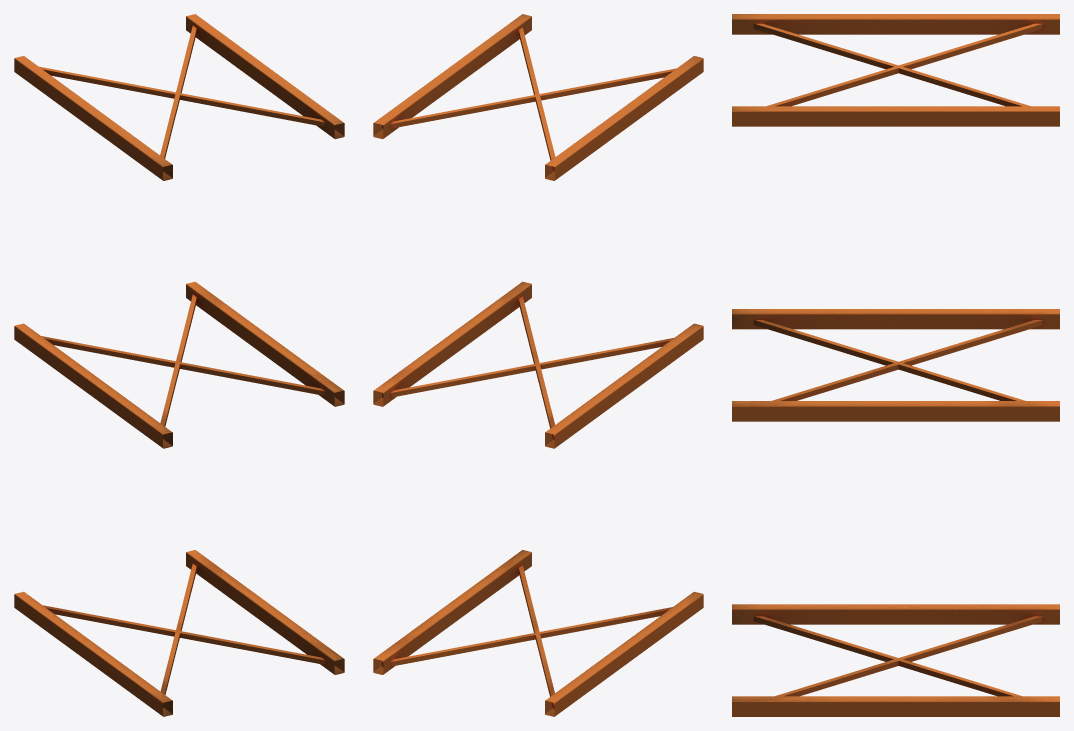
The model's file is shelves.serva.3340.obj.
The picture shows the model from 3 angles, left to right: view 1: azimuth 30°, elevation 25°; view 2: azimuth 150°, elevation 25°; view 3: azimuth 270°, elevation 25°; orthographic projection. The views are drawn at different scales.
Parts seen in each view (by area): view 1: ____01; view 2: ____01; view 3: ____01.
Part boxes in pixels (x1=…): ____01: x1=14, y1=14, x2=344, y2=716; ____01: x1=373, y1=14, x2=703, y2=716; ____01: x1=732, y1=14, x2=1059, y2=716.
Bounding box in the file's own units: 141 × 408 × 200.
